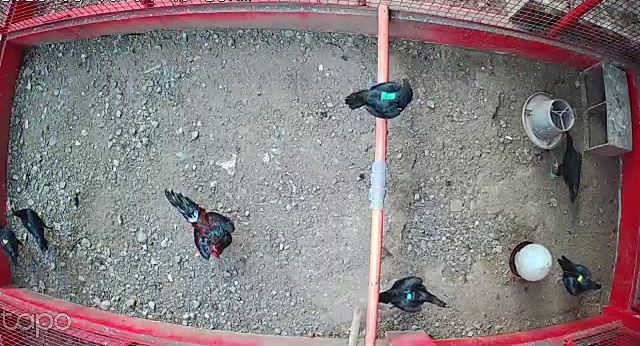Chicken: (375, 265, 457, 315), (344, 72, 417, 121), (545, 125, 587, 210), (549, 252, 603, 298), (9, 200, 55, 254), (0, 223, 32, 264)
Rooster: (158, 182, 237, 270)
Saddle_Color_Blue: (404, 288, 417, 304)
Saddle_Color_Yellow: (1, 234, 7, 248)
